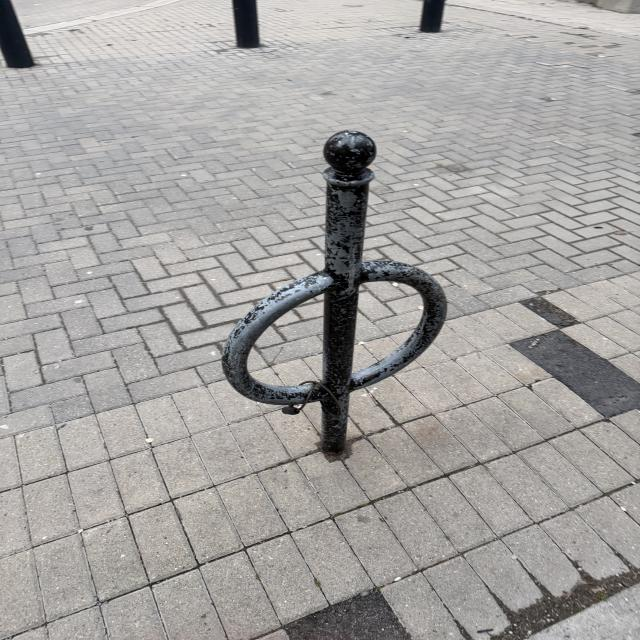Bicycle Rack: (224, 128, 449, 458)
